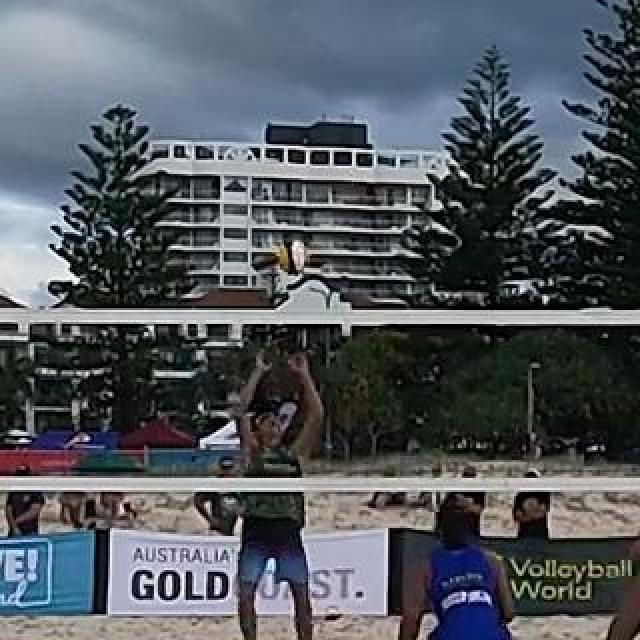volleyball: (275, 240, 309, 274)
